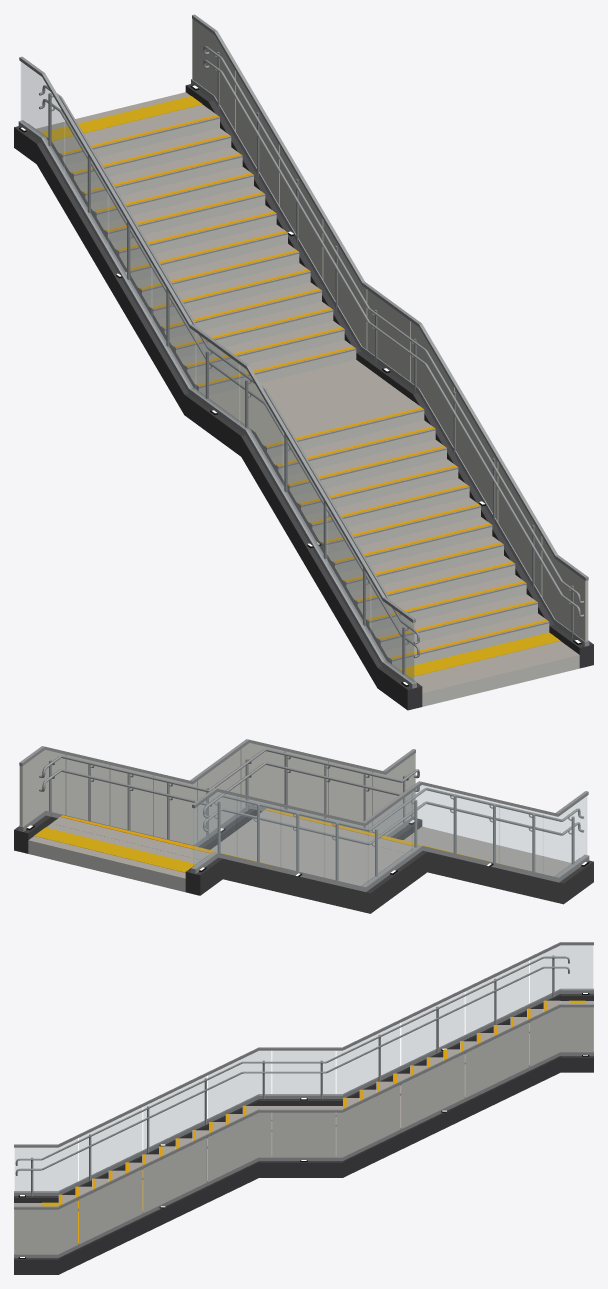
The model's file is gteki_stairs_landing_w2400_r4000.glb.
3 views of the same model, one above another, from view 1: azimuth 30°, elevation 25°; view 2: azimuth 150°, elevation 25°; view 3: azimuth 270°, elevation 25° (orthographic). The views are drawn at different scales.
Visible parts, largest first — view 1: VIS_body; view 2: VIS_body; view 3: VIS_body.
Part boxes in pixels (x1,y1,x2,y2): VIS_body: (14, 14, 593, 710); VIS_body: (14, 739, 593, 913); VIS_body: (14, 942, 593, 1274).
Size of what is drawn, in the model's own units: 2.84 by 5.3 by 10.4.
2 materials, 2 textured.
